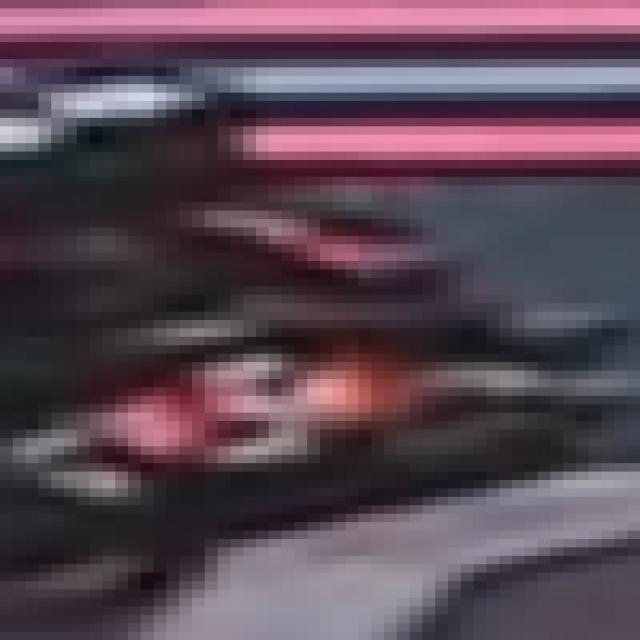R5: (115, 354, 397, 472)
